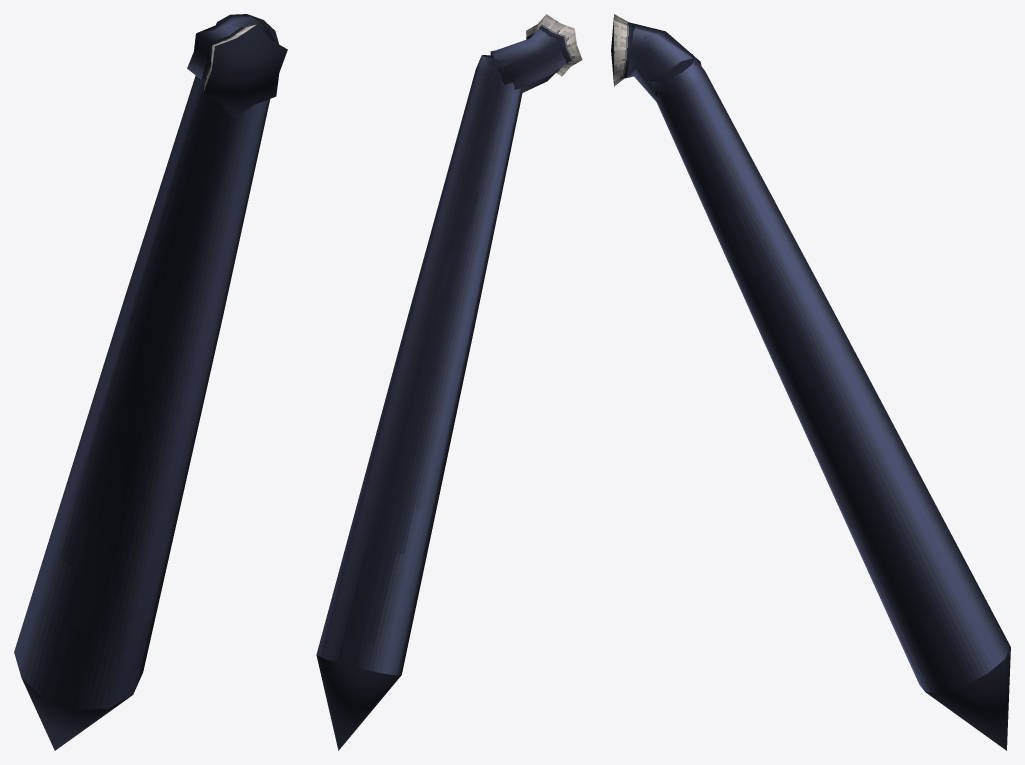
The model's file is club_hand.glb.
3 renders of one model, left to right at view 1: azimuth 30°, elevation 25°; view 2: azimuth 150°, elevation 25°; view 3: azimuth 270°, elevation 25°, orthographic. The views are drawn at different scales.
Visible parts, largest first — view 1: arm_forearm, arm_cuff; view 2: arm_forearm, arm_cuff; view 3: arm_forearm, arm_cuff.
Boxes of the visible parts, box(x1,y1,x2,y2) form: arm_forearm: box(14, 14, 278, 750); arm_cuff: box(187, 16, 287, 117); arm_forearm: box(316, 55, 522, 750); arm_cuff: box(490, 14, 582, 92); arm_forearm: box(650, 54, 1010, 750); arm_cuff: box(611, 14, 701, 102).
Bounding box in the file's own units: 0.266 × 1.46 × 0.7448.
Materials: 1 (1 with a texture image).
